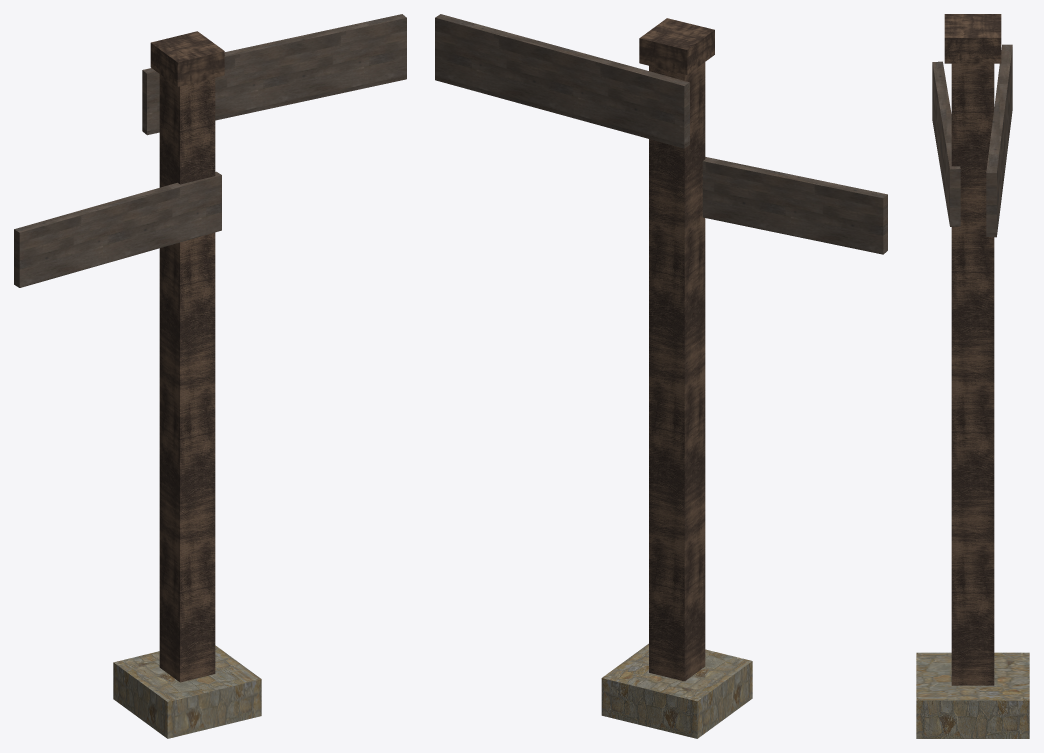
The model's file is prop_signpost_v2.glb.
3 renders of one model, left to right at view 1: azimuth 30°, elevation 25°; view 2: azimuth 150°, elevation 25°; view 3: azimuth 270°, elevation 25°, orthographic. The views are drawn at different scales.
Parts seen in each view (by area): view 1: prop_signpost_v2; view 2: prop_signpost_v2; view 3: prop_signpost_v2.
Part boxes in pixels (<box>): prop_signpost_v2: <box>14,14,406,738</box>; prop_signpost_v2: <box>435,14,887,738</box>; prop_signpost_v2: <box>916,14,1029,738</box>.
Bounding box in the file's own units: 1.41 × 2.15 × 0.32.
Materials: 3 (3 with a texture image).
